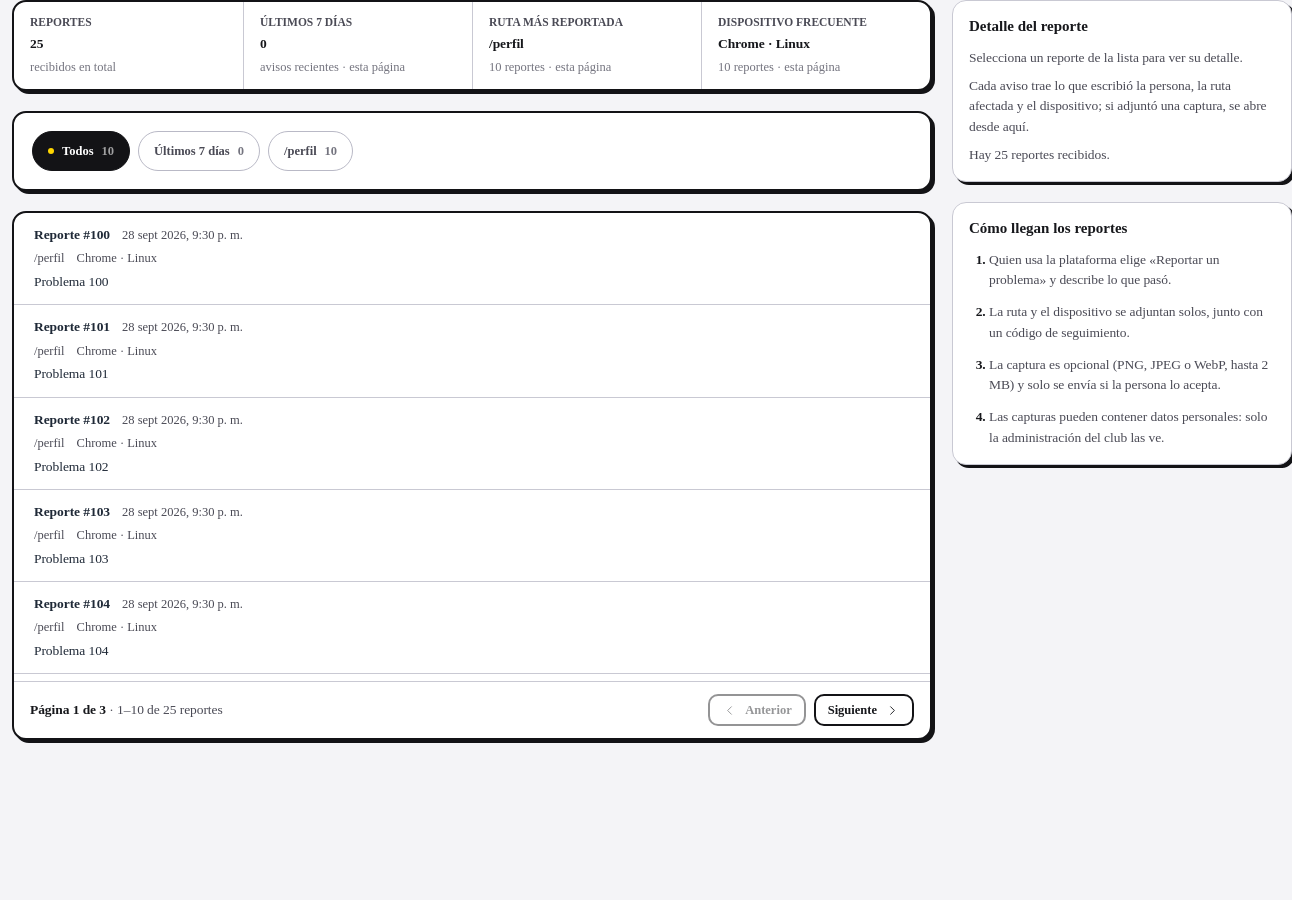
Scenario: bandeja de reportes › renders a pager when there are more reports than one page and reaches the next page
The width and height of the screenshot is (1292, 900).
Check: the button "Reporte #100" is shown, box [14,213,930,304]
Check: the text "Página 1 de 3" is shown, box [30,702,106,717]
Click the button with aria-label "Página siguiente": click(864, 710) [814,694,914,726]
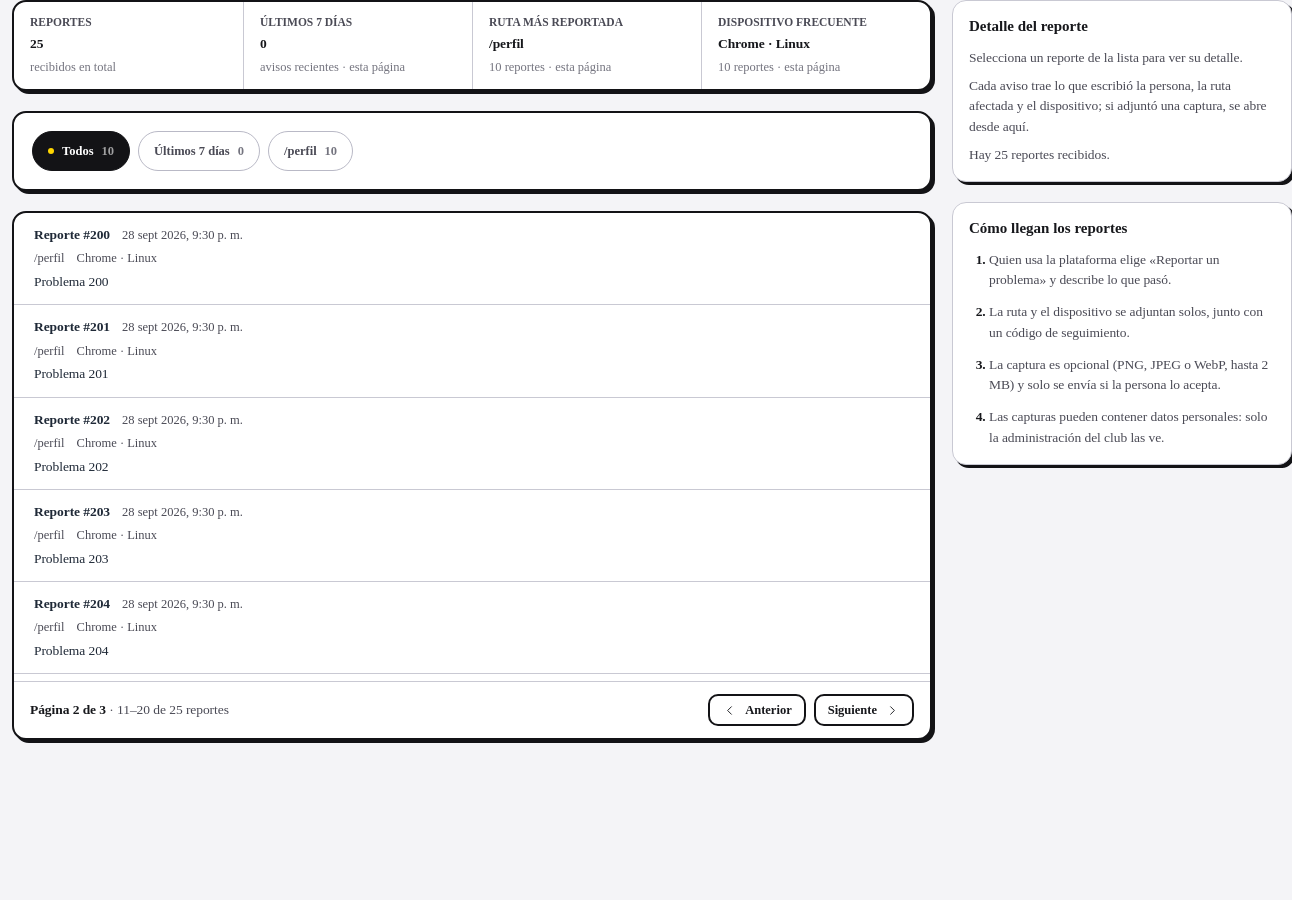
Check: the button "Reporte #200" is shown, box [14,213,930,304]
Check: the text "Página 2 de 3" is shown, box [30,702,106,717]
Check: the button "Reporte #100" is gone
